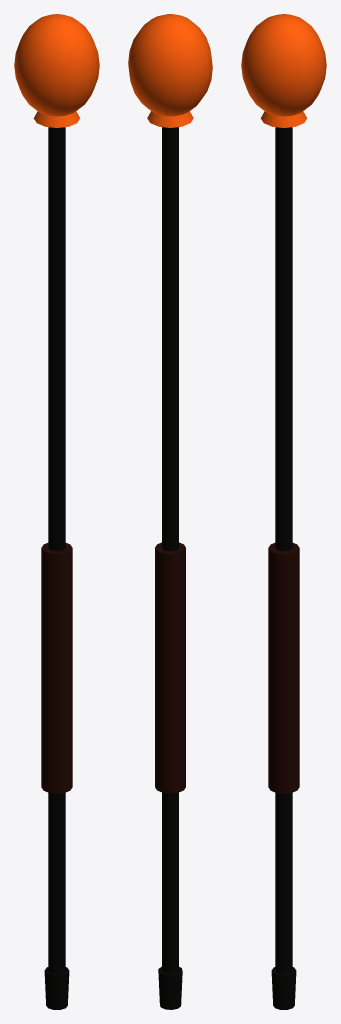
The model's file is canna.glb.
The picture shows the model from 3 angles, left to right: view 1: azimuth 90°, elevation 25°; view 2: azimuth 150°, elevation 25°; view 3: azimuth 270°, elevation 25°; orthographic projection.
Visible parts, largest first — view 1: canna; view 2: canna; view 3: canna.
Boxes of the visible parts, x1,y1,x2,y2 form: canna: [14, 14, 99, 1009]; canna: [128, 14, 212, 1009]; canna: [241, 14, 326, 1009].
Size of the model in its own units: 0.11 by 1.4 by 0.11.
